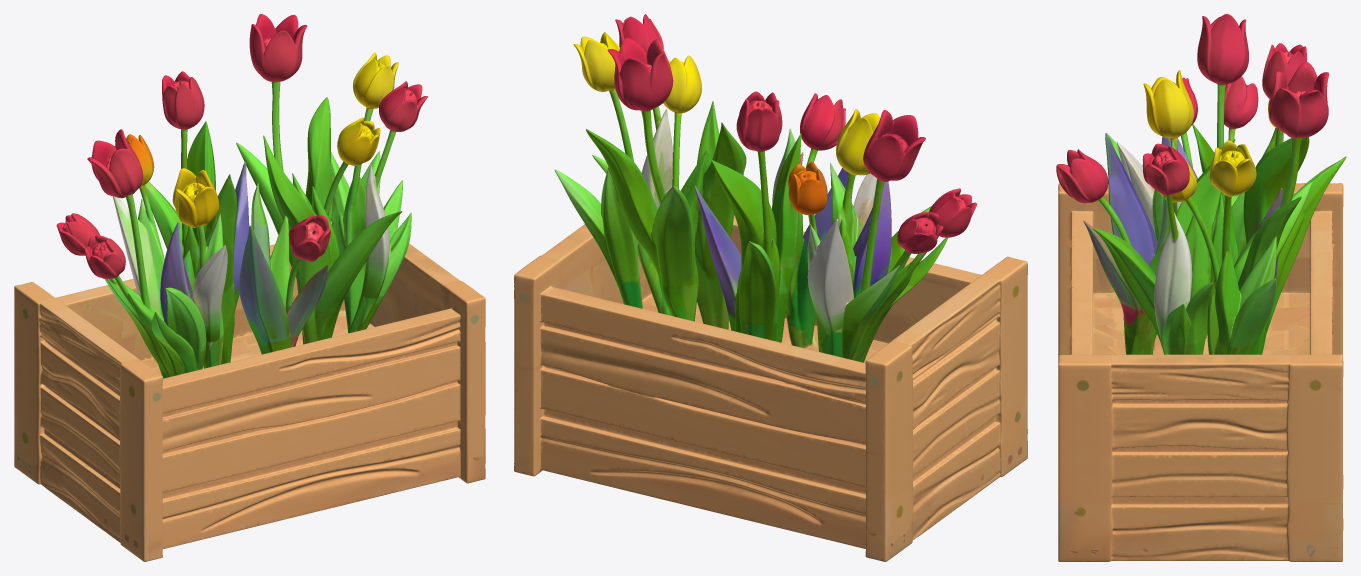
File: Model_Planter.fbx
3 renders of one model, left to right at view 1: azimuth 30°, elevation 25°; view 2: azimuth 150°, elevation 25°; view 3: azimuth 270°, elevation 25°, orthographic. The views are drawn at different scales.
Visible parts, largest first — view 1: Mesh_0; view 2: Mesh_0; view 3: Mesh_0.
Boxes of the visible parts, <box> form: Mesh_0: <box>14,14,485,561</box>; Mesh_0: <box>514,14,1027,561</box>; Mesh_0: <box>1056,14,1346,561</box>.
Size of the model in its own units: 1.71 by 1.9 by 1.15.
1 material, 1 textured.
